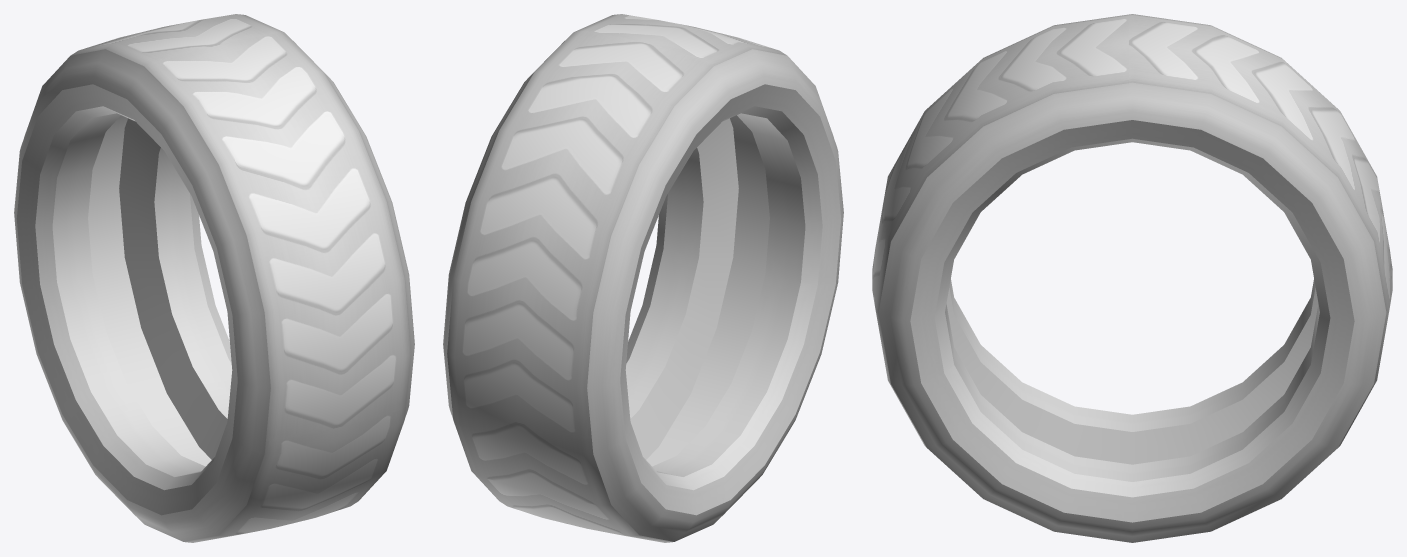
Rendered from Tyre.fbx.
The picture shows the model from 3 angles, left to right: view 1: azimuth 30°, elevation 25°; view 2: azimuth 150°, elevation 25°; view 3: azimuth 270°, elevation 25°; orthographic projection.
Visible parts, largest first — view 1: Tyre; view 2: Tyre; view 3: Tyre.
Boxes of the visible parts, x1,y1,x2,y2 form: Tyre: (14,14,414,542); Tyre: (443,14,843,542); Tyre: (872,14,1392,542).
Bounding box in the file's own units: 85.32 × 219 × 219.
1 material, 1 textured.
